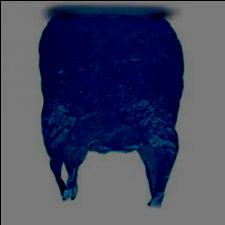Plastic: (35, 13, 183, 212)
